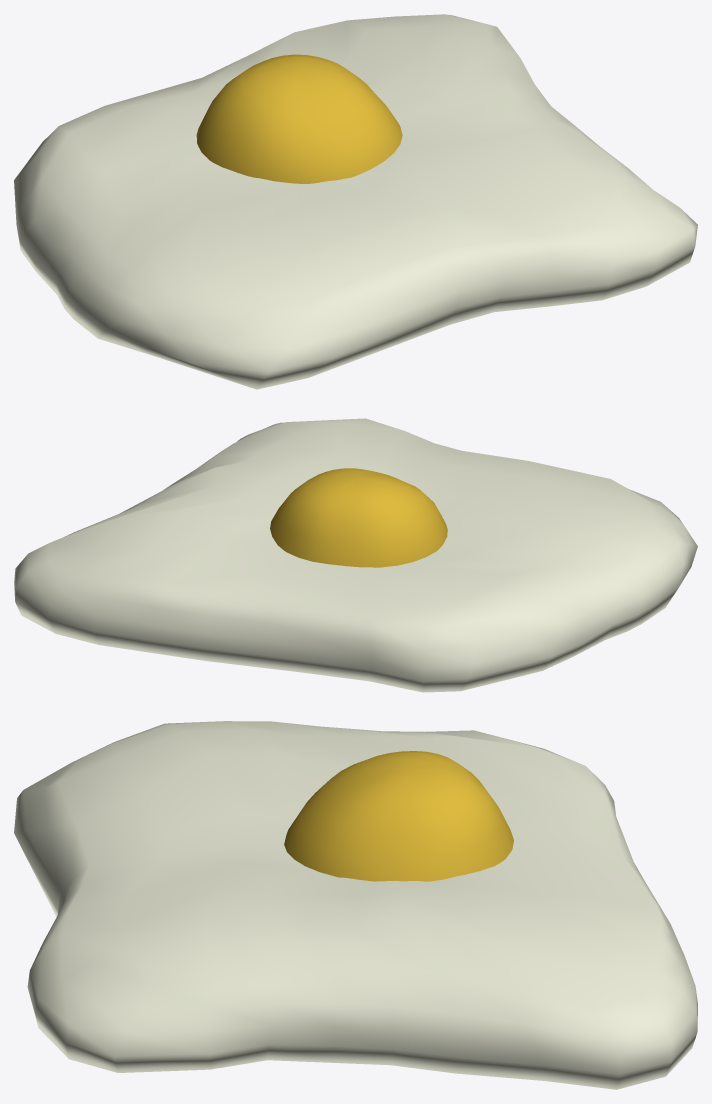
The model's file is egg.fbx.
3 renders of one model, top to bottom at view 1: azimuth 30°, elevation 25°; view 2: azimuth 150°, elevation 25°; view 3: azimuth 270°, elevation 25°, orthographic. The views are drawn at different scales.
Visible parts, largest first — view 1: Cube, Sphere; view 2: Cube, Sphere; view 3: Cube, Sphere.
Boxes of the visible parts, left/top/right/bottom form: Cube: left=14, top=14, right=697, bottom=389; Sphere: left=196, top=54, right=402, bottom=183; Cube: left=14, top=418, right=697, bottom=692; Sphere: left=270, top=468, right=447, bottom=567; Cube: left=14, top=721, right=697, bottom=1089; Sphere: left=284, top=751, right=513, bottom=881.
Bounding box in the file's own units: 240 × 55.98 × 216.
